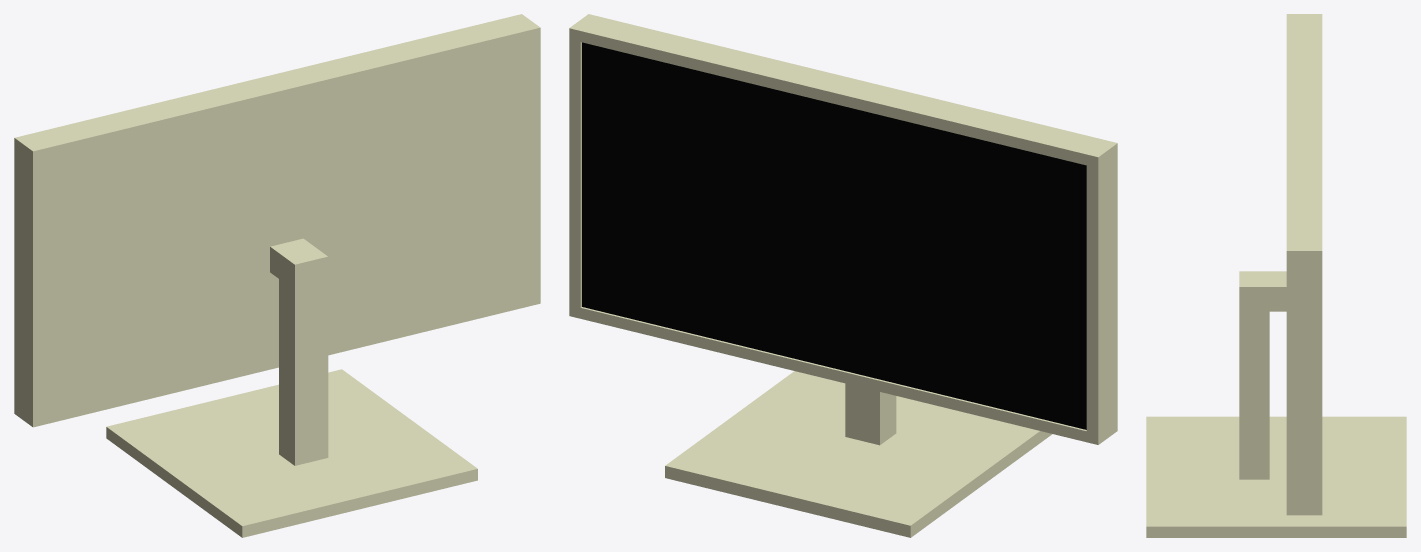
File: ComputerScreen.fbx
3 renders of one model, left to right at view 1: azimuth 30°, elevation 25°; view 2: azimuth 150°, elevation 25°; view 3: azimuth 270°, elevation 25°, orthographic. The views are drawn at different scales.
Parts seen in each view (by area): view 1: Computer Screen; view 2: Computer Screen; view 3: Computer Screen.
Boxes of the visible parts, box(x1,y1,x2,y2) form: Computer Screen: box(14, 14, 540, 537); Computer Screen: box(569, 14, 1117, 537); Computer Screen: box(1146, 14, 1406, 537).
Bounding box in the file's own units: 0.8747 × 0.6049 × 0.4061.
